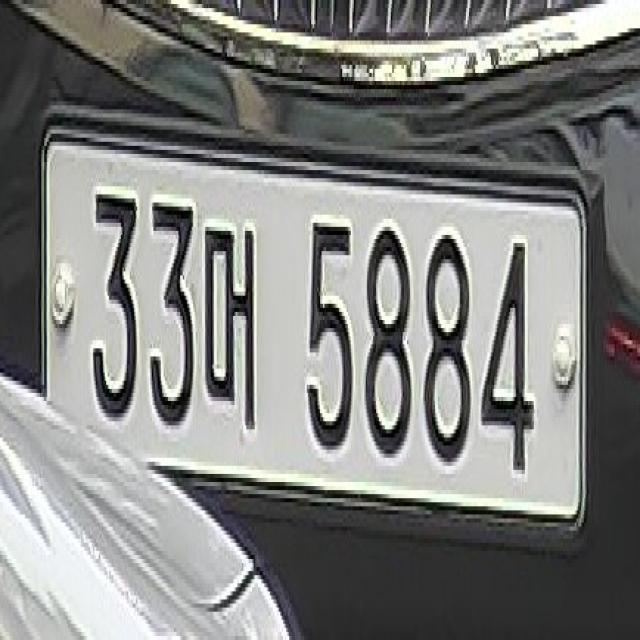plat: (39, 113, 588, 525)
